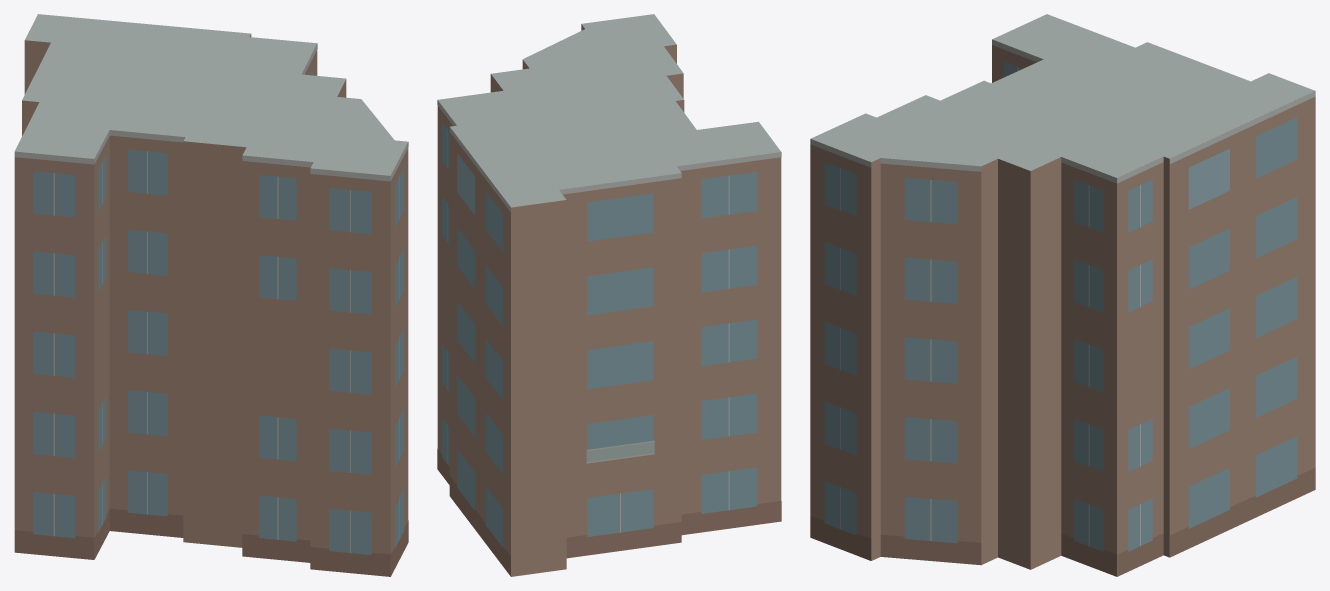
File: survey-upis-32545525.glb
The picture shows the model from 3 angles, left to right: view 1: azimuth 30°, elevation 25°; view 2: azimuth 150°, elevation 25°; view 3: azimuth 270°, elevation 25°; orthographic projection. The views are drawn at different scales.
Visible parts, largest first — view 1: survey-upis-32545525.tmp; view 2: survey-upis-32545525.tmp; view 3: survey-upis-32545525.tmp.
Part boxes in pixels (x1,y1,x2,y2): survey-upis-32545525.tmp: (14, 14, 408, 576); survey-upis-32545525.tmp: (437, 14, 781, 576); survey-upis-32545525.tmp: (810, 14, 1315, 576).
Bounding box in the file's own units: 15.56 × 17.62 × 20.24.
